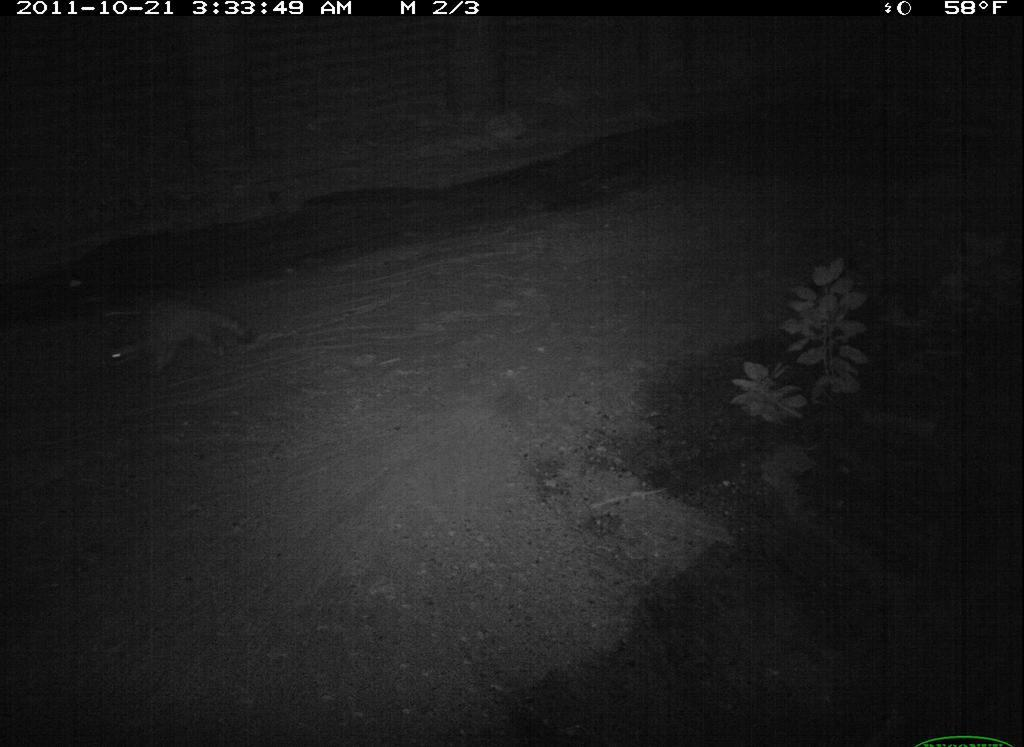raccoon: (102, 286, 263, 390)
